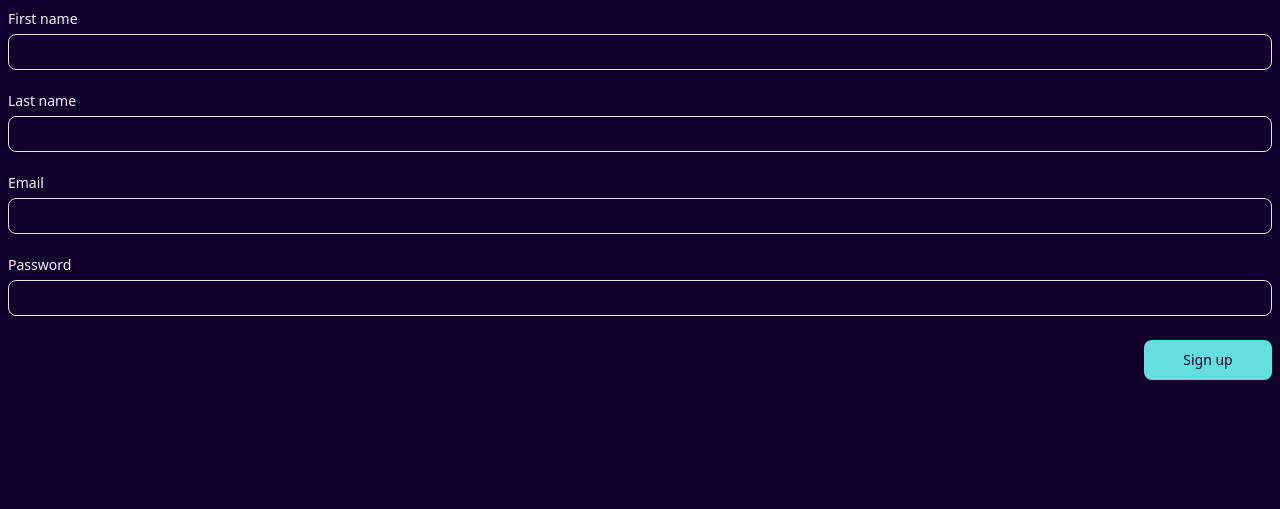
Test: SignUpForm › should show error message when the form is submitted with invalid data inside first name field
Click the button "Sign up".
click(1208, 360)  # box [1144,340,1272,380]
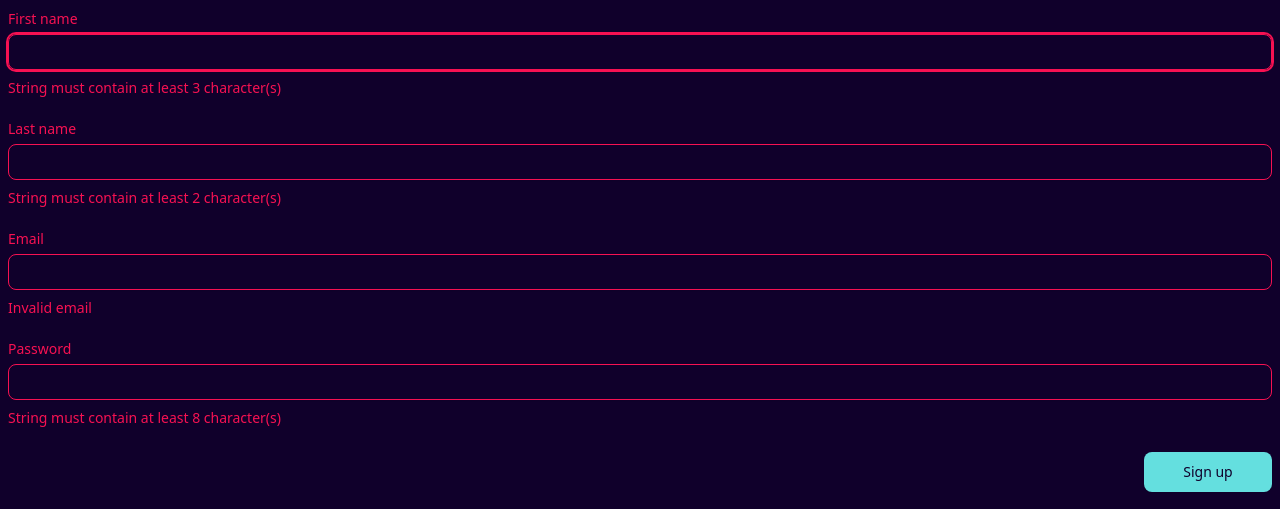
Result: the text "String must contain at least 8 character(s)" is shown at [8,408,281,427]
